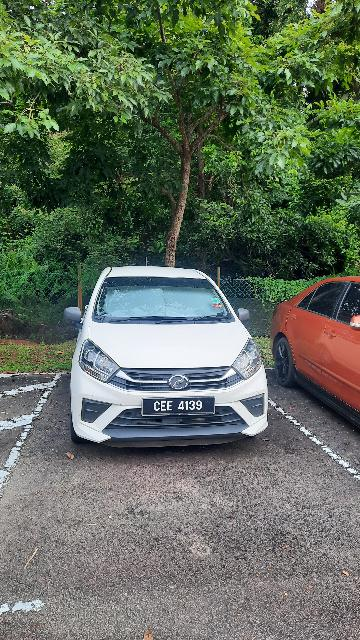License_Plate: (138, 397, 222, 419)
car: (60, 262, 273, 449), (265, 275, 360, 438)
